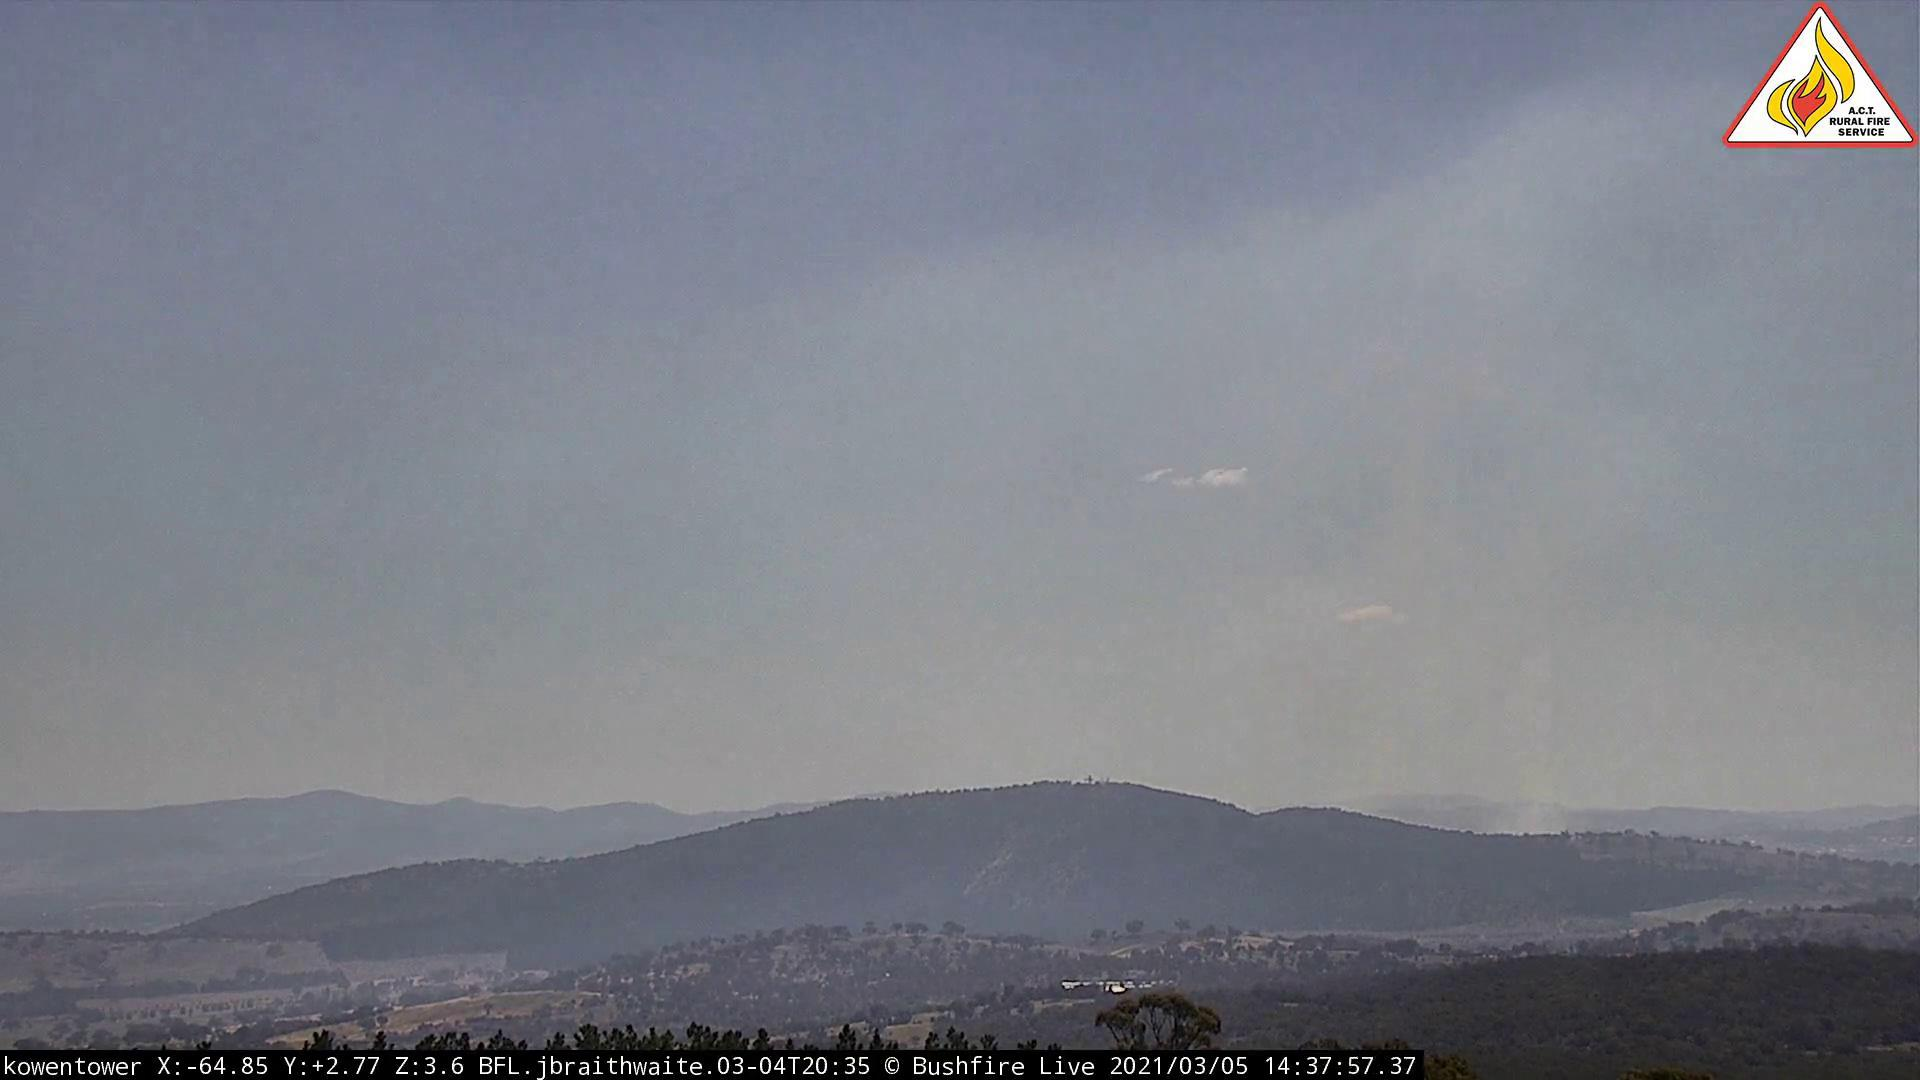instance_salient_object: (1358, 390, 1594, 847)
